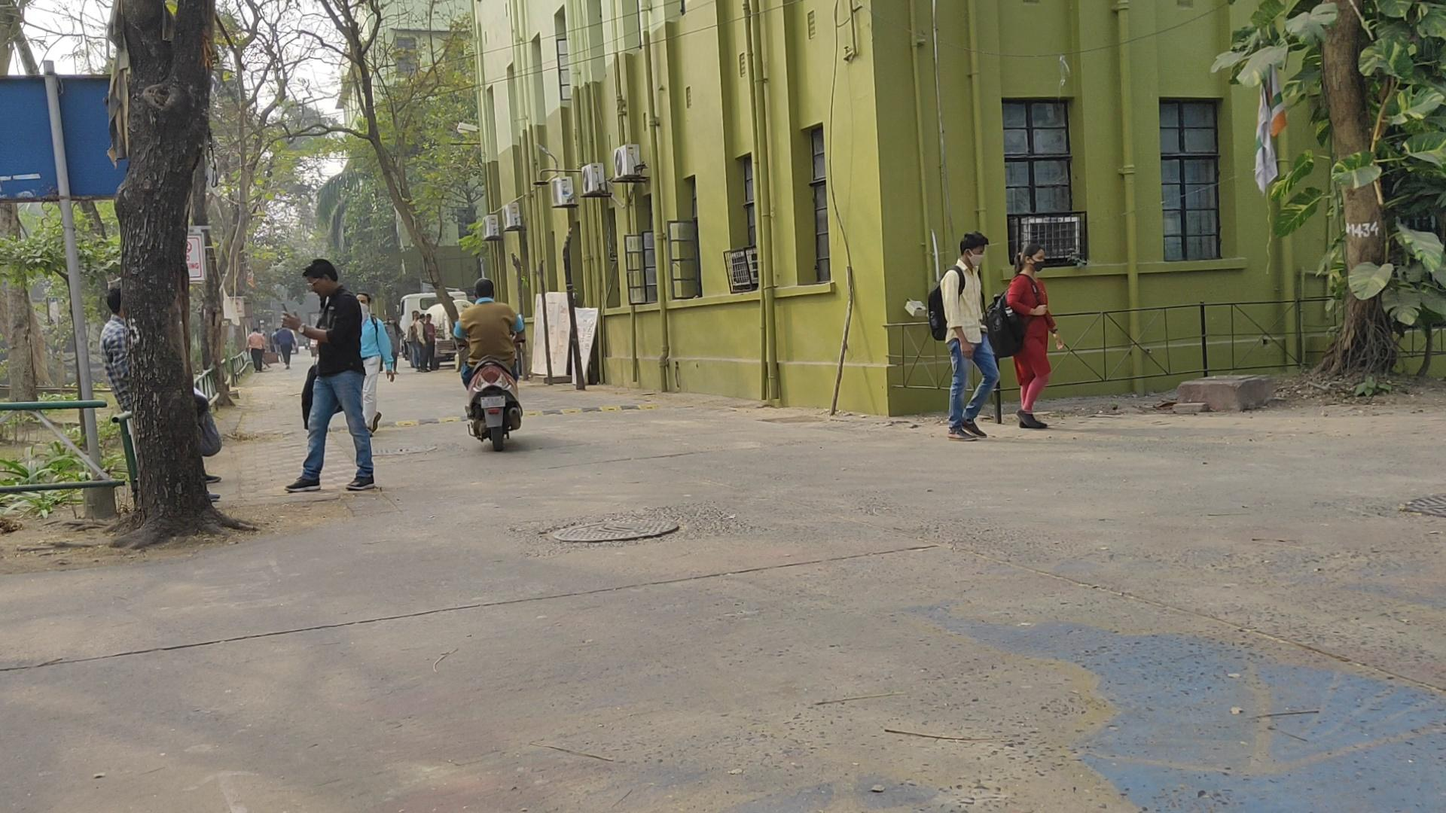bike: (453, 278, 526, 452)
truck: (398, 292, 474, 367)
